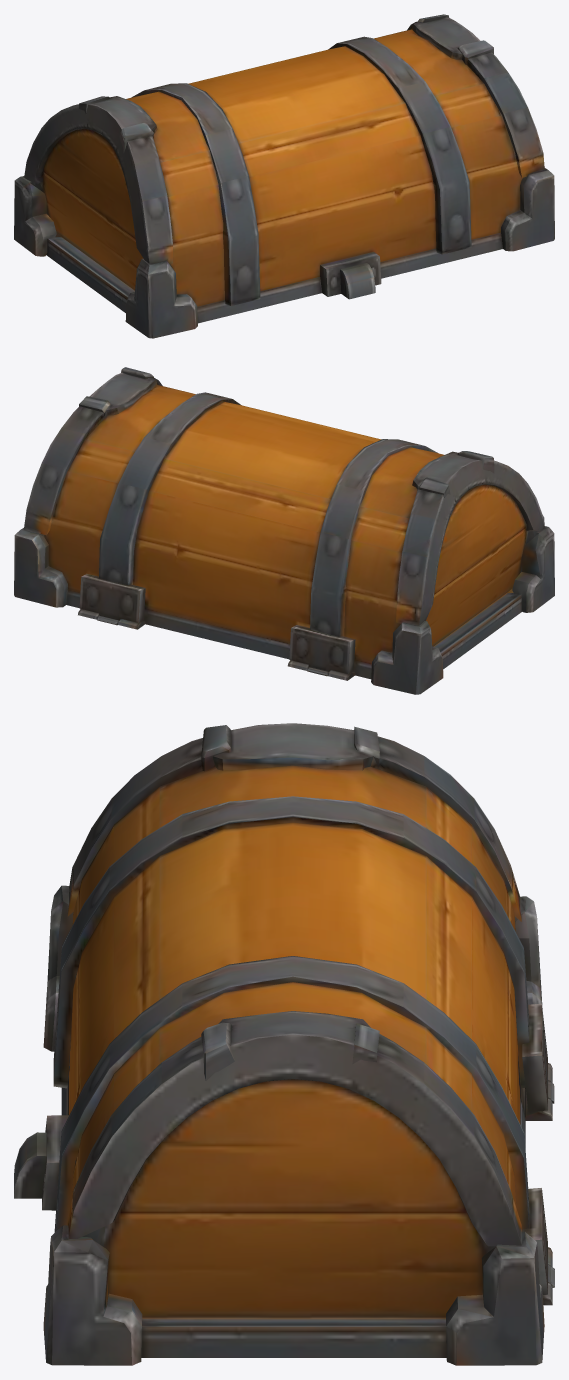
File: SM_Prop_ChestCommonLid.glb
3 views of the same model, one above another, from view 1: azimuth 30°, elevation 25°; view 2: azimuth 150°, elevation 25°; view 3: azimuth 270°, elevation 25° (orthographic). The views are drawn at different scales.
Visible parts, largest first — view 1: SM_Prop_ChestCommonLid_LOD0; view 2: SM_Prop_ChestCommonLid_LOD0; view 3: SM_Prop_ChestCommonLid_LOD0.
Boxes of the visible parts, box(x1,y1,x2,y2) form: SM_Prop_ChestCommonLid_LOD0: box(14, 14, 554, 338); SM_Prop_ChestCommonLid_LOD0: box(14, 367, 554, 694); SM_Prop_ChestCommonLid_LOD0: box(14, 723, 554, 1365).
Size of the model in its own units: 0.8525 by 0.342 by 0.5447.
1 material, 1 textured.
